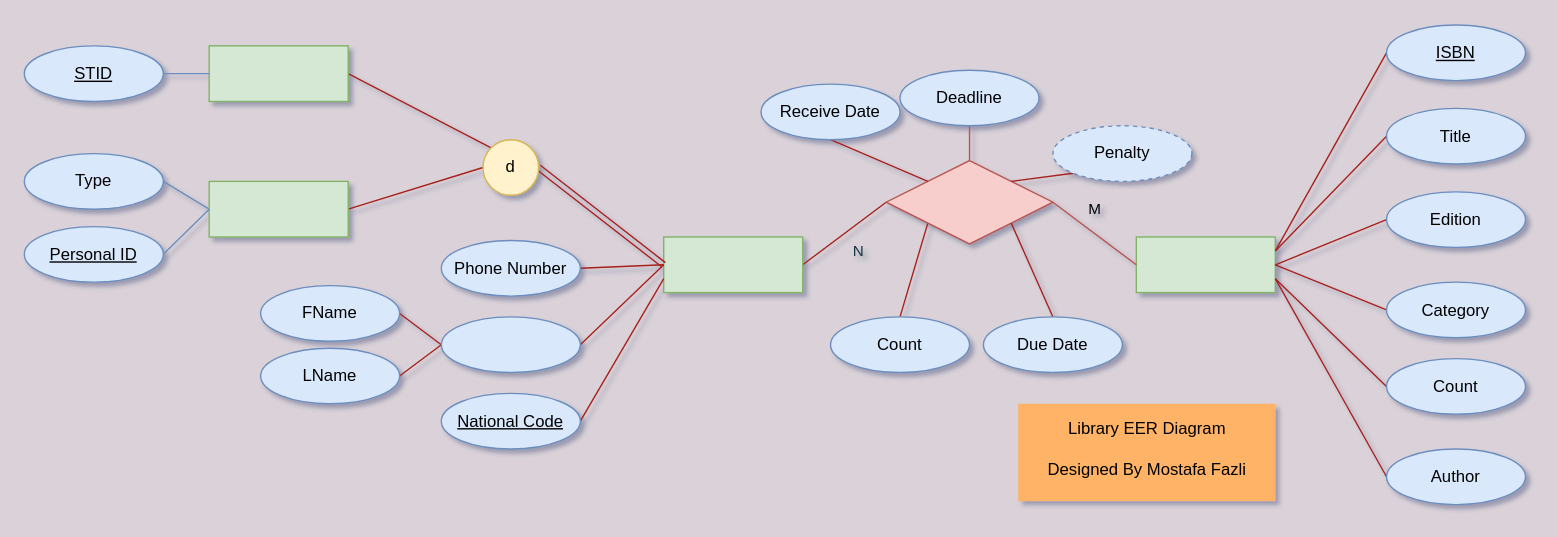
Some shapes in this 1558 by 537 pixel diagram are drawn without their labels. Each missing label, with the centre of its shape:
"Book" belongs at pixel 1205 264.
"Borrow" belongs at pixel 969 201.
"Employee" belongs at pixel 278 208.
"Name" belongs at pixel 510 344.
"Person" belongs at pixel 732 264.
"Student" belongs at pixel 278 72.
